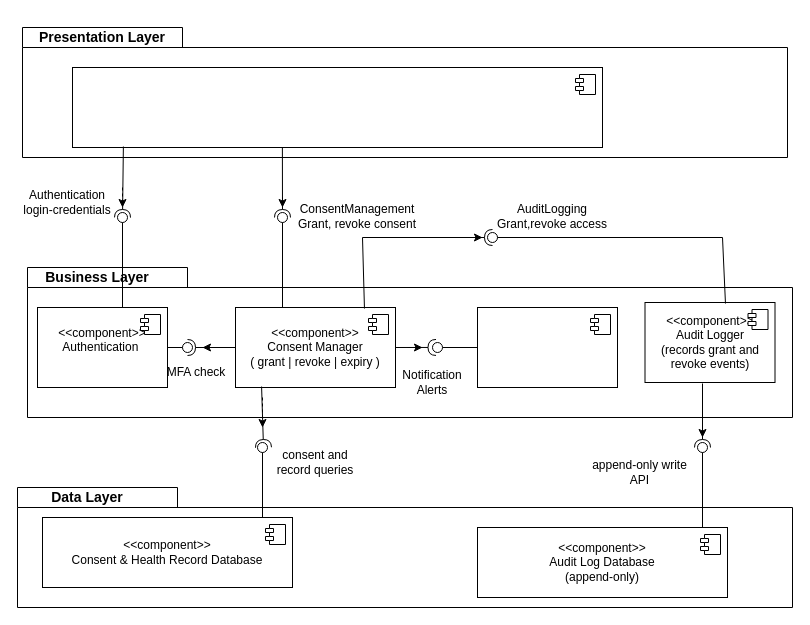
This 810x625 diagram has some shape labels left out. Each missing label, with the box of its shape:
<<component>> Notification Service (alerts): (476, 306, 618, 388)
<<component>> User Interface (Patient | Doctor | Clinic Administrator): (72, 66, 602, 148)
